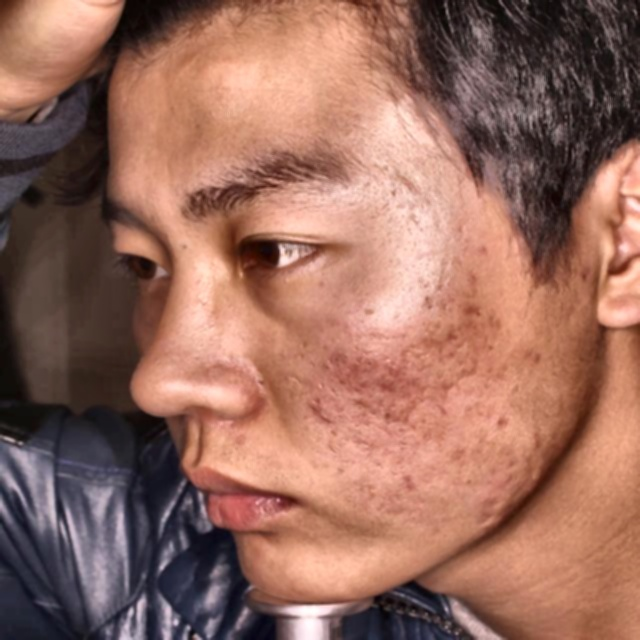comedone: (492, 407, 524, 429), (527, 429, 550, 458), (461, 298, 487, 320)
